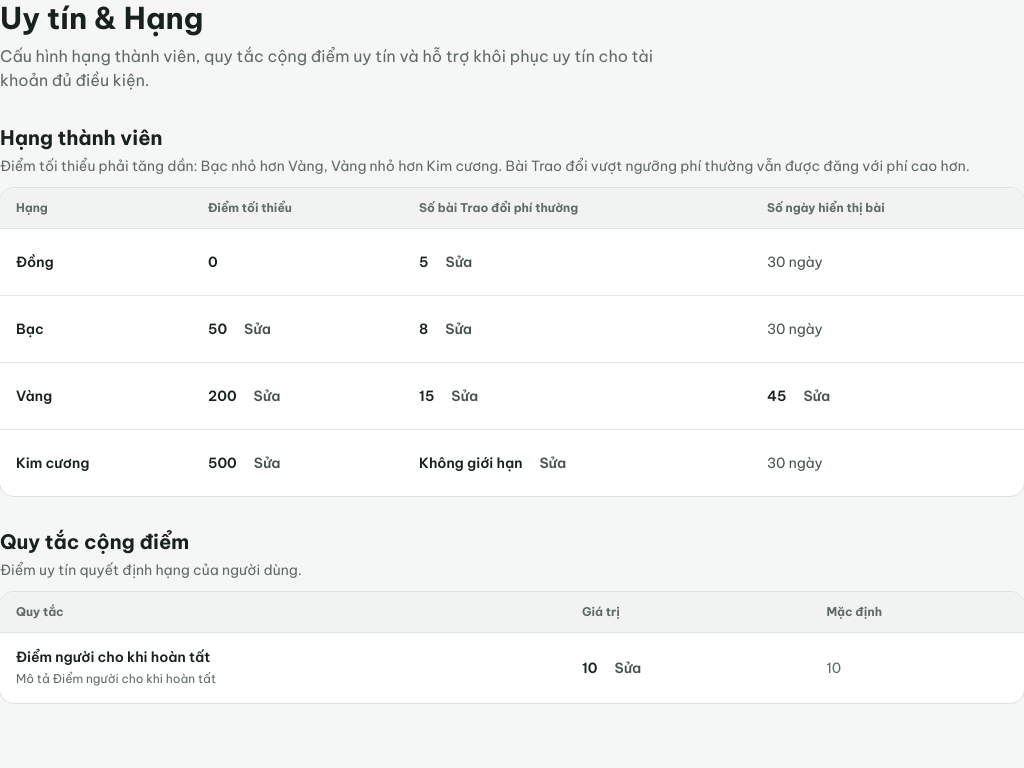
AdminReputation cấu hình hạng › chặn điểm hạng không tăng dần ngay trên trang và không gọi API sửa
This screenshot has width=1024, height=768.
Click the button with aria-label "Sửa Điểm tối thiểu hạng Bạc": click(257, 329) [235,310,280,348]
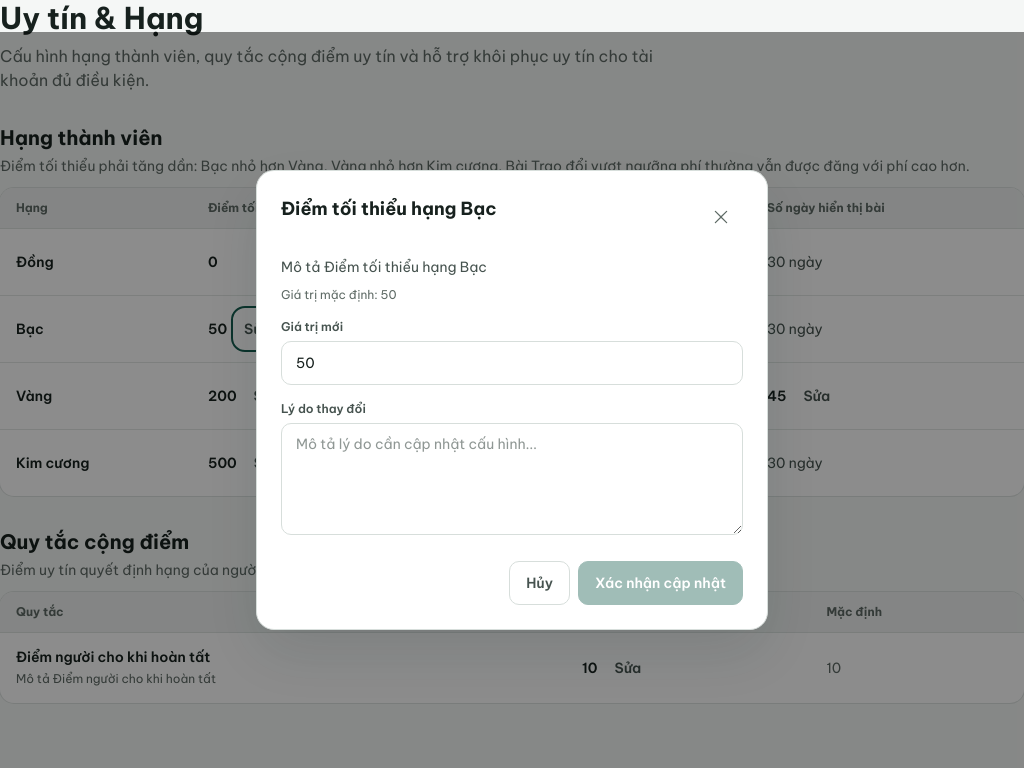
Replace the text in the field labelled "Giá trị mới" with "250": (512, 363) [281,341,743,385]
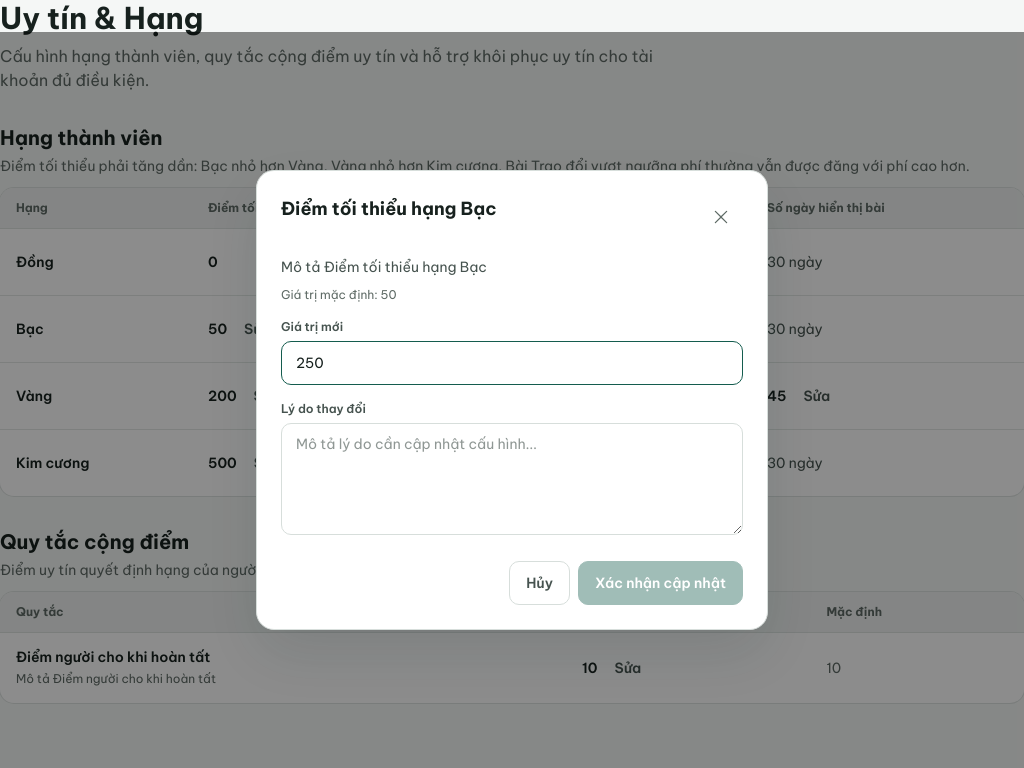
In the text box labelled "Lý do thay đổi": (512, 479) [281,423,743,535], type "Điều chỉnh thử"
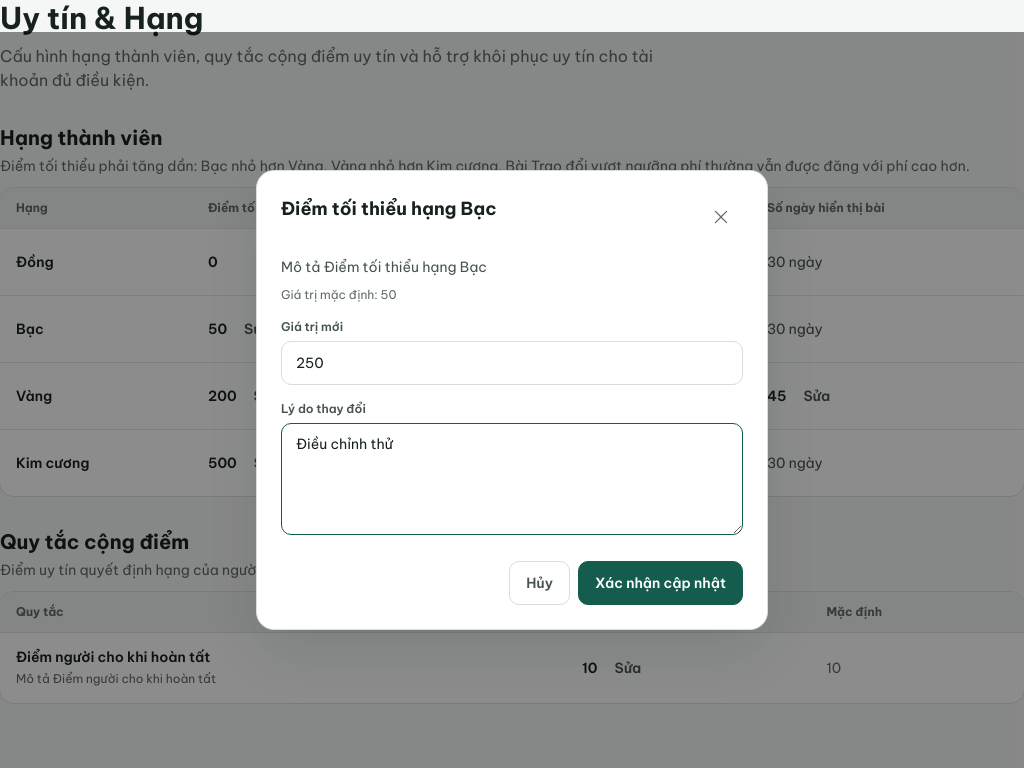
Click the button "Xác nhận cập nhật": click(660, 583) [578,561,743,605]
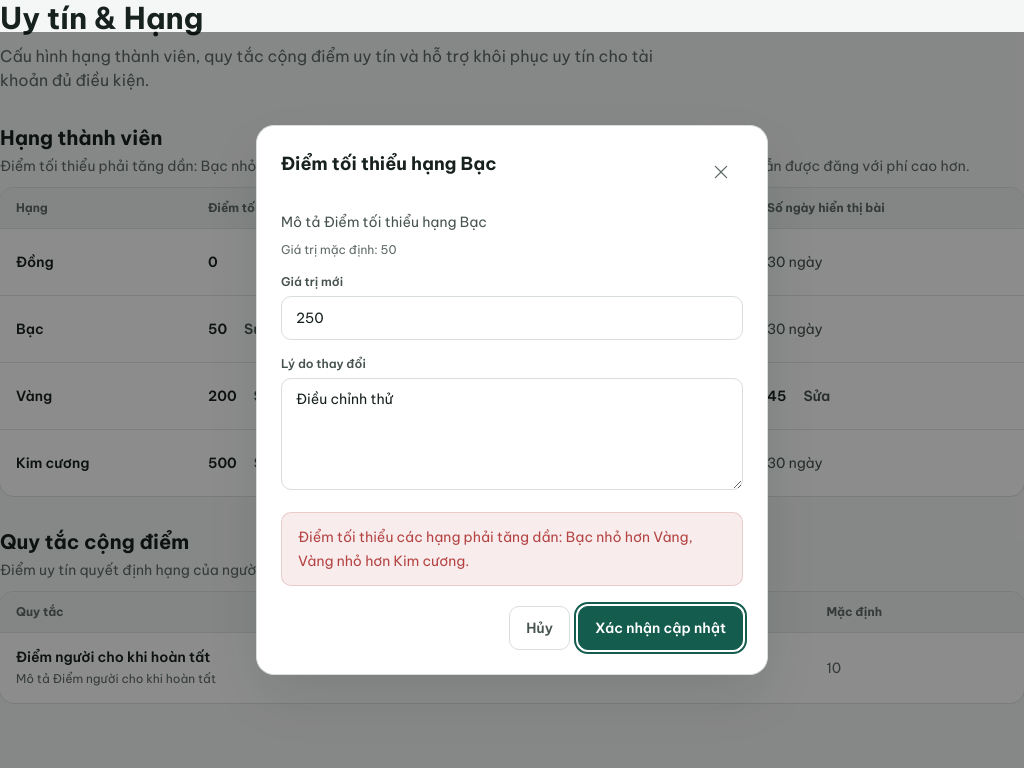
Now the message shows "phải tăng dần", box [298,528,693,570]
